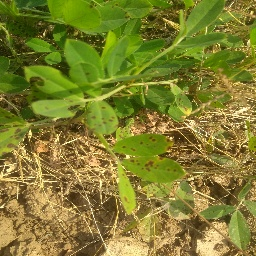GroundNut_Leaf: (22, 64, 81, 104), (112, 132, 178, 156), (182, 2, 228, 33), (120, 157, 189, 177), (108, 178, 140, 216), (1, 120, 35, 154), (228, 209, 253, 252), (84, 101, 120, 130), (107, 34, 129, 77)
